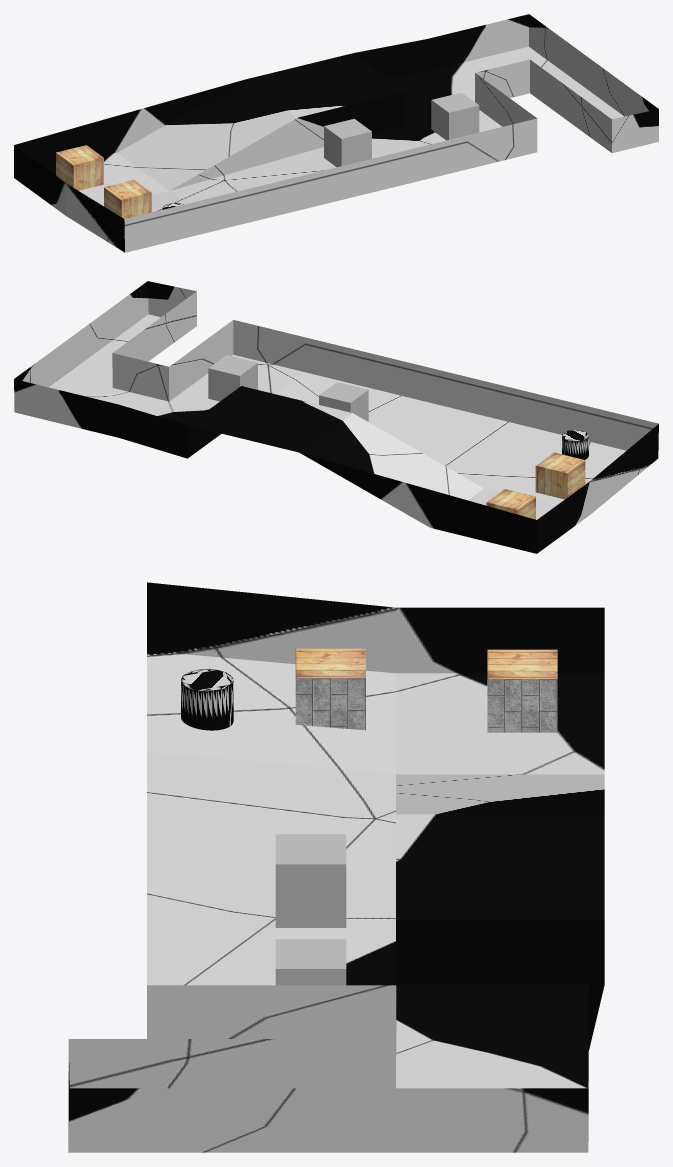
File: Stage5.fbx
3 renders of one model, top to bottom at view 1: azimuth 30°, elevation 25°; view 2: azimuth 150°, elevation 25°; view 3: azimuth 270°, elevation 25°, orthographic. The views are drawn at different scales.
Visible parts, largest first — view 1: Plane, Cube.003, Cube.002, Cube.001, Cube; view 2: Plane, Cube, Cube.002, Cube.003, Cube.001; view 3: Plane, Cube.003, Cube.001, Cube, Cube.002.
Part boxes in pixels (left/top/right/bottom): Plane: left=14, top=14, right=658, bottom=252; Cube.003: left=324, top=118, right=371, bottom=167; Cube.002: left=431, top=92, right=479, bottom=140; Cube.001: left=56, top=145, right=103, bottom=190; Cube: left=104, top=179, right=151, bottom=218; Plane: left=14, top=281, right=658, bottom=553; Cube: left=535, top=452, right=585, bottom=499; Cube.002: left=208, top=355, right=257, bottom=401; Cube.003: left=319, top=382, right=368, bottom=421; Cube.001: left=486, top=489, right=535, bottom=519; Plane: left=68, top=582, right=604, bottom=1152; Cube.003: left=275, top=834, right=346, bottom=927; Cube.001: left=487, top=649, right=557, bottom=732; Cube: left=295, top=648, right=365, bottom=730; Cube.002: left=275, top=939, right=346, bottom=985.
Bounding box in the file's own units: 67.64 × 6.12 × 30.49.
